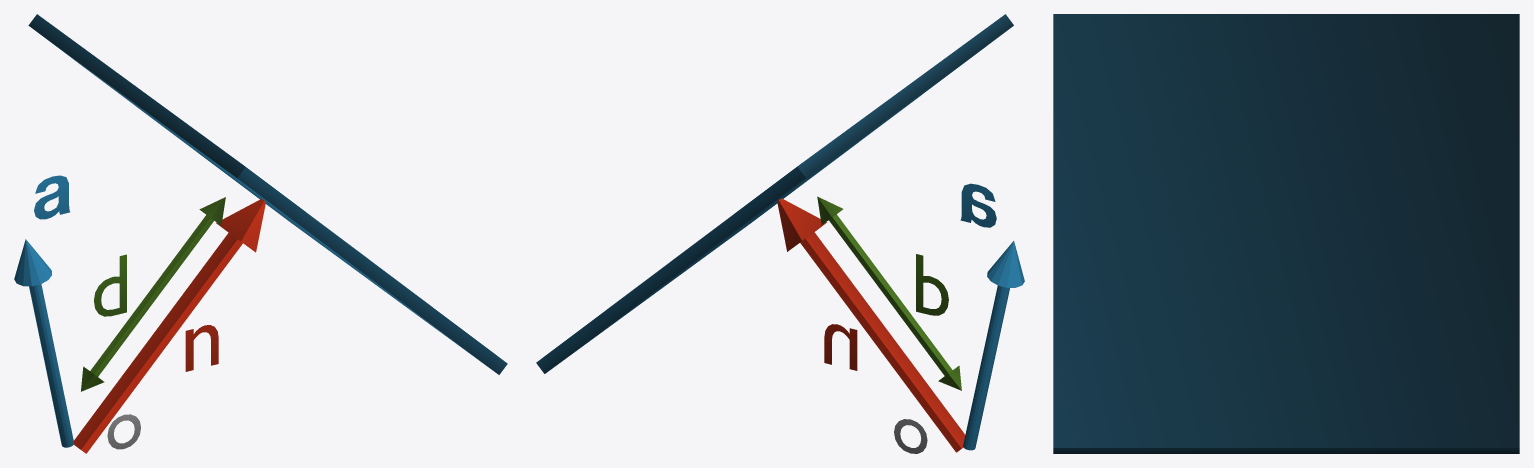
3 views of the same model, side by side, from view 1: azimuth 30°, elevation 25°; view 2: azimuth 150°, elevation 25°; view 3: azimuth 270°, elevation 25° (orthographic). The views are drawn at different scales.
Visible parts, largest first — view 1: Cube.022, Cube.021, Cylinder.002, Cube.020, Text.023, Text.022, Text.021, Text.020; view 2: Cube.022, Cube.021, Cylinder.002, Cube.020, Text.023, Text.022, Text.021, Text.020; view 3: Cube.022.
Part boxes in pixels (x1=…): Cube.022: x1=28, y1=14, x2=507, y2=374; Cube.021: x1=74, y1=199, x2=265, y2=453; Cylinder.002: x1=14, y1=239, x2=74, y2=447; Cube.020: x1=81, y1=197, x2=225, y2=391; Text.023: x1=34, y1=175, x2=69, y2=219; Text.022: x1=94, y1=254, x2=126, y2=316; Text.021: x1=185, y1=325, x2=218, y2=371; Text.020: x1=107, y1=414, x2=140, y2=449; Cube.022: x1=536, y1=14, x2=1013, y2=373; Cube.021: x1=777, y1=198, x2=965, y2=452; Cylinder.002: x1=963, y1=241, x2=1024, y2=450; Cube.020: x1=817, y1=196, x2=961, y2=390; Text.023: x1=960, y1=183, x2=996, y2=227; Text.022: x1=916, y1=254, x2=948, y2=315; Text.021: x1=824, y1=324, x2=857, y2=370; Text.020: x1=894, y1=419, x2=927, y2=453; Cube.022: x1=1053, y1=14, x2=1519, y2=453.
Size of the model in its own units: 2.7 by 2.4 by 2.53.
1 material, 1 textured.
